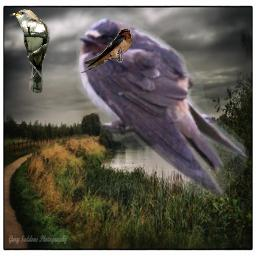Cuckoo: (9, 9, 50, 93)
Swallow: (74, 15, 249, 199), (78, 29, 132, 73)
